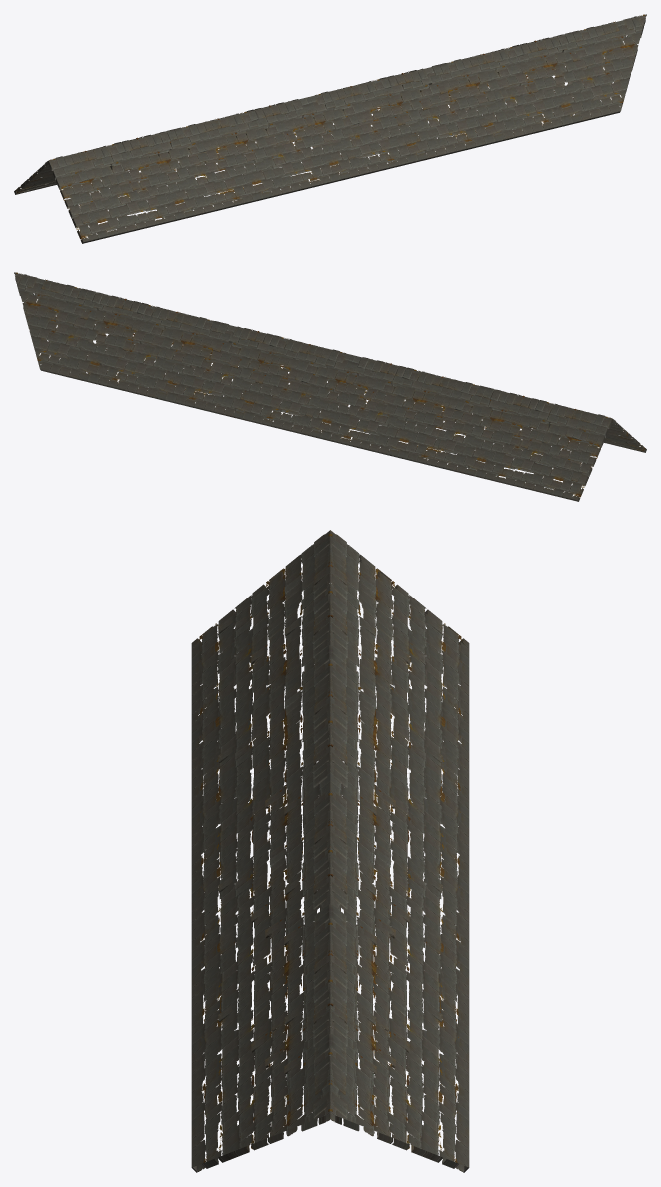
3 views of the same model, one above another, from view 1: azimuth 30°, elevation 25°; view 2: azimuth 150°, elevation 25°; view 3: azimuth 270°, elevation 25° (orthographic). The views are drawn at different scales.
Parts seen in each view (by area): view 1: SM_Greathall_Roof_02_LOD0; view 2: SM_Greathall_Roof_02_LOD0; view 3: SM_Greathall_Roof_02_LOD0.
Boxes of the visible parts, bbox=[...] form: SM_Greathall_Roof_02_LOD0: bbox=[14, 14, 646, 243]; SM_Greathall_Roof_02_LOD0: bbox=[14, 272, 646, 501]; SM_Greathall_Roof_02_LOD0: bbox=[191, 530, 469, 1172].
Size of the model in its own units: 36.04 by 3.44 by 7.25.
Materials: 1 (1 with a texture image).
